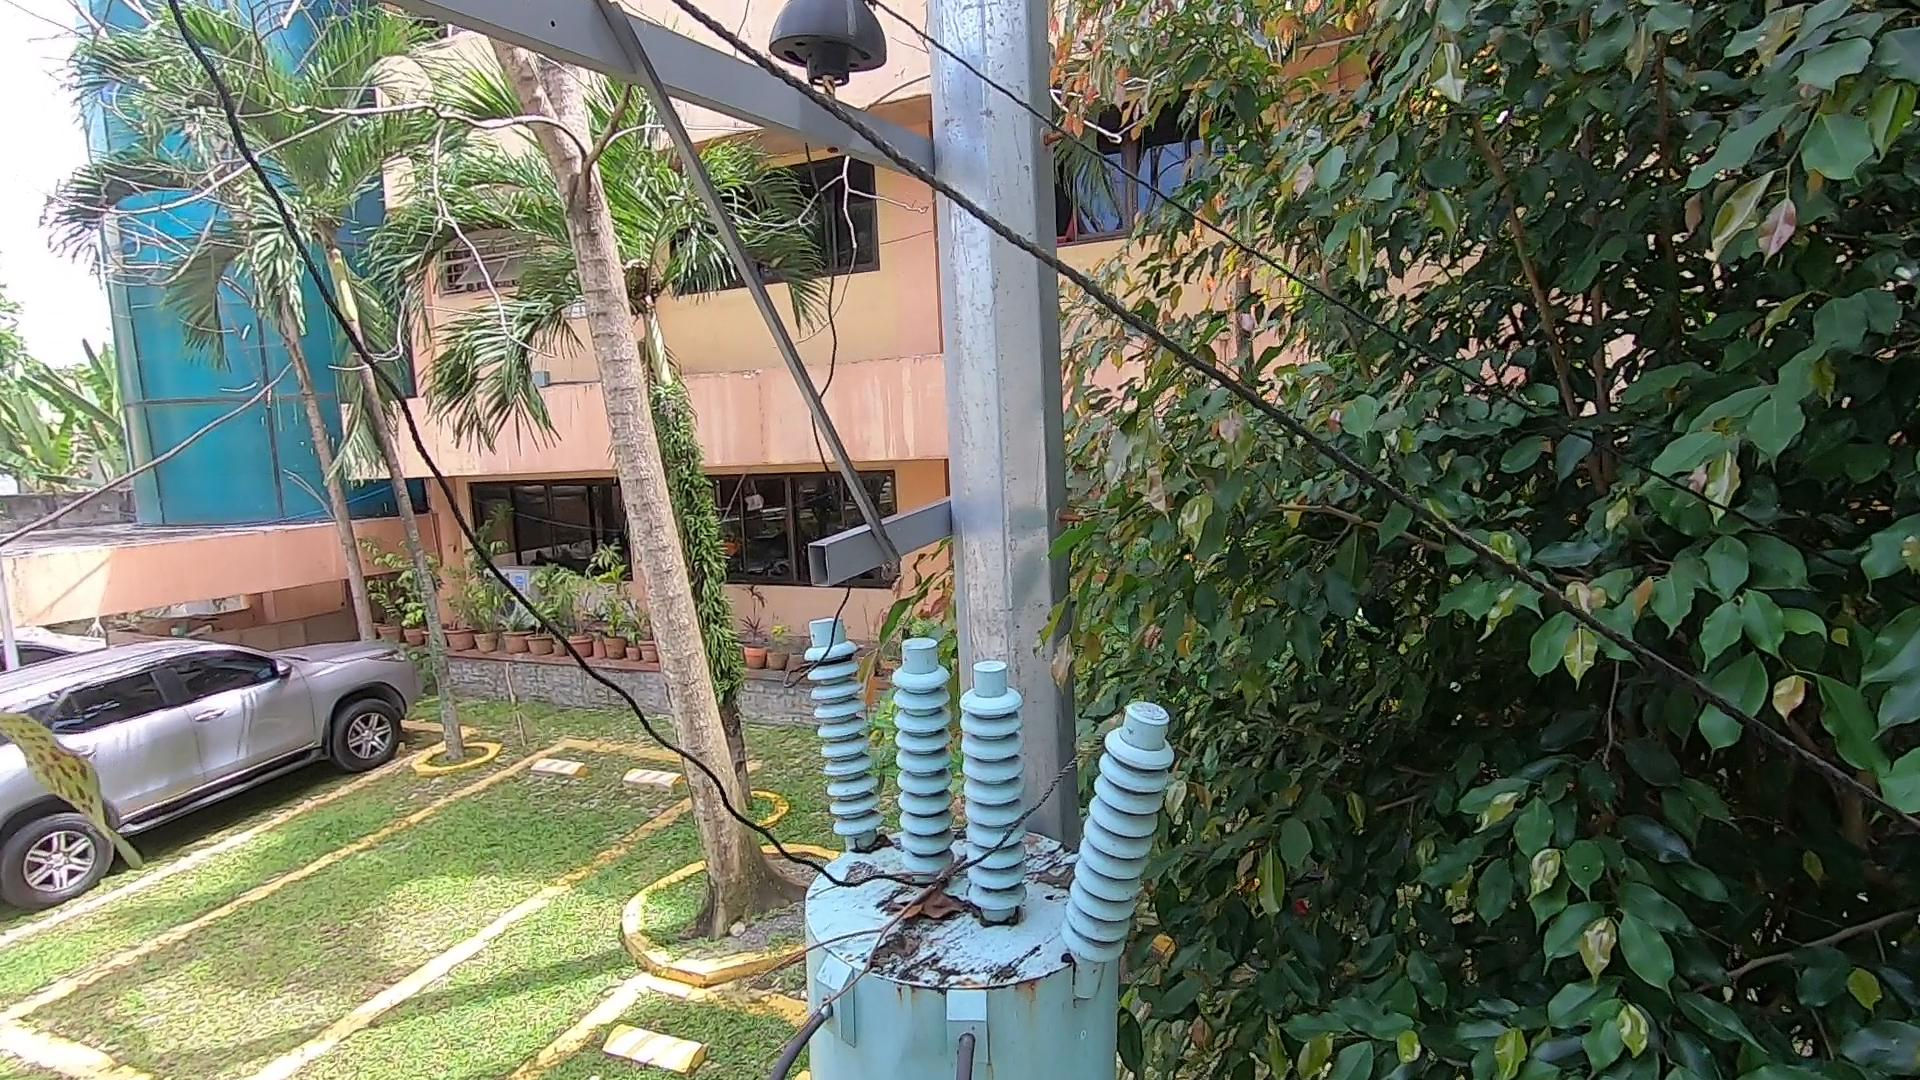leaf: (899, 895, 994, 927), (1036, 851, 1073, 895), (855, 829, 891, 860)
tree branch: (767, 818, 956, 1030)
